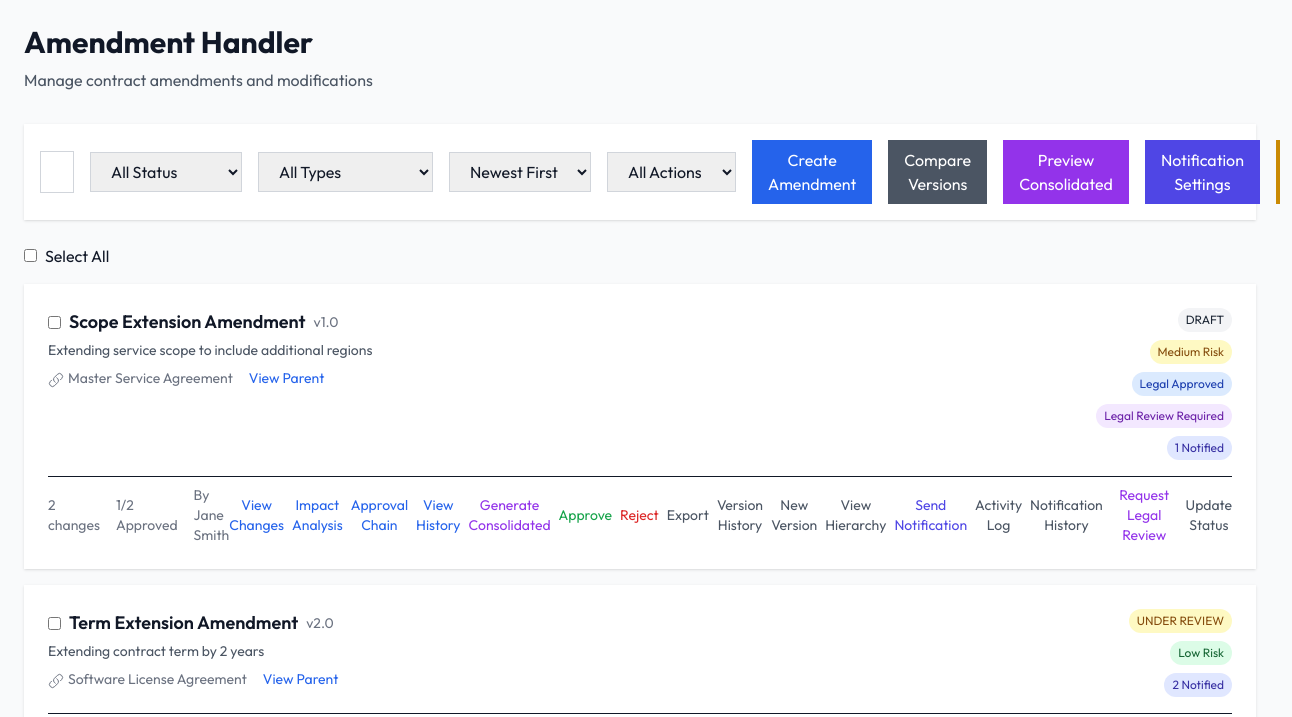
Test: AmendmentHandler › Parent Contract Linking › should show contract hierarchy
What coordinates should you click on to do the following:
click the button "View Hierarchy"
I would click on:
 (856, 515)
Its box is [825,485,886,545].
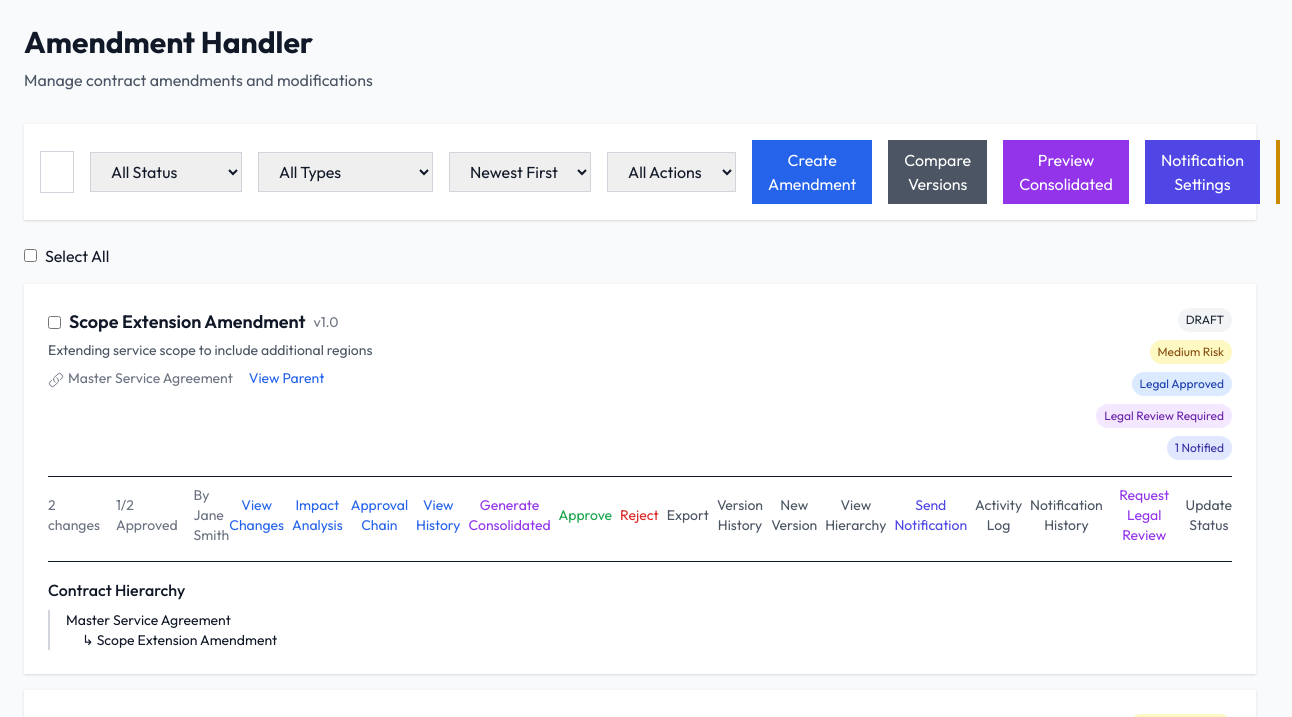
expect the element with test id "contract-hierarchy" is shown: met, box [48,561,1232,650]
expect the heading "Contract Hierarchy" is shown: met, box [48,580,185,600]
